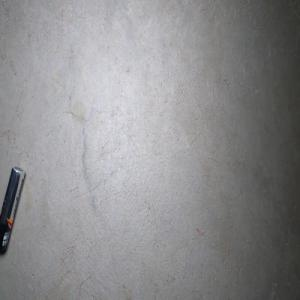Battery: (0, 165, 25, 251)
